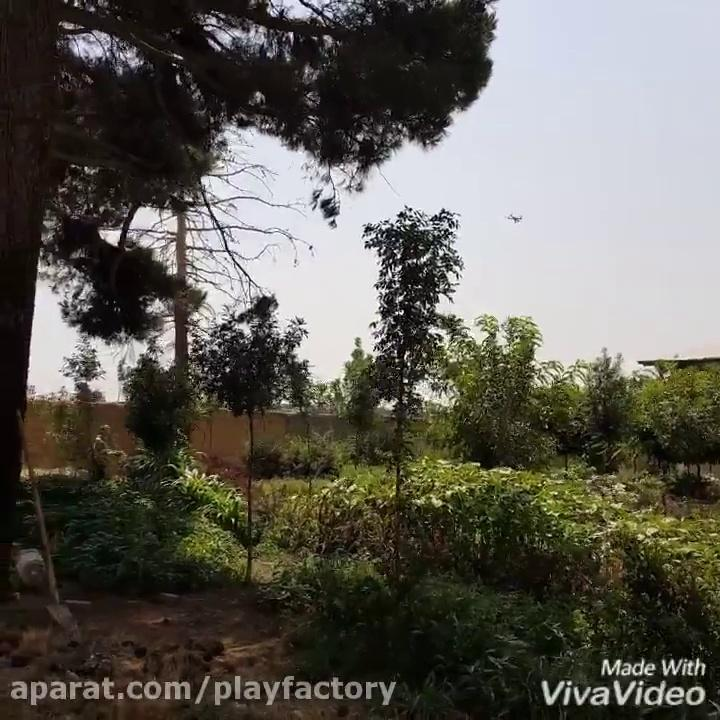drone: (503, 210, 524, 225)
